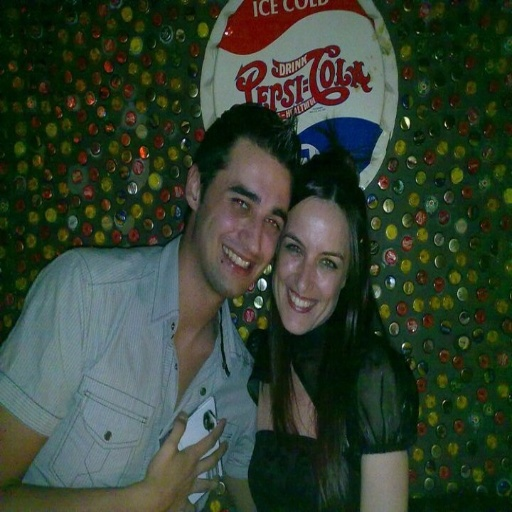hand: (128, 413, 221, 508)
